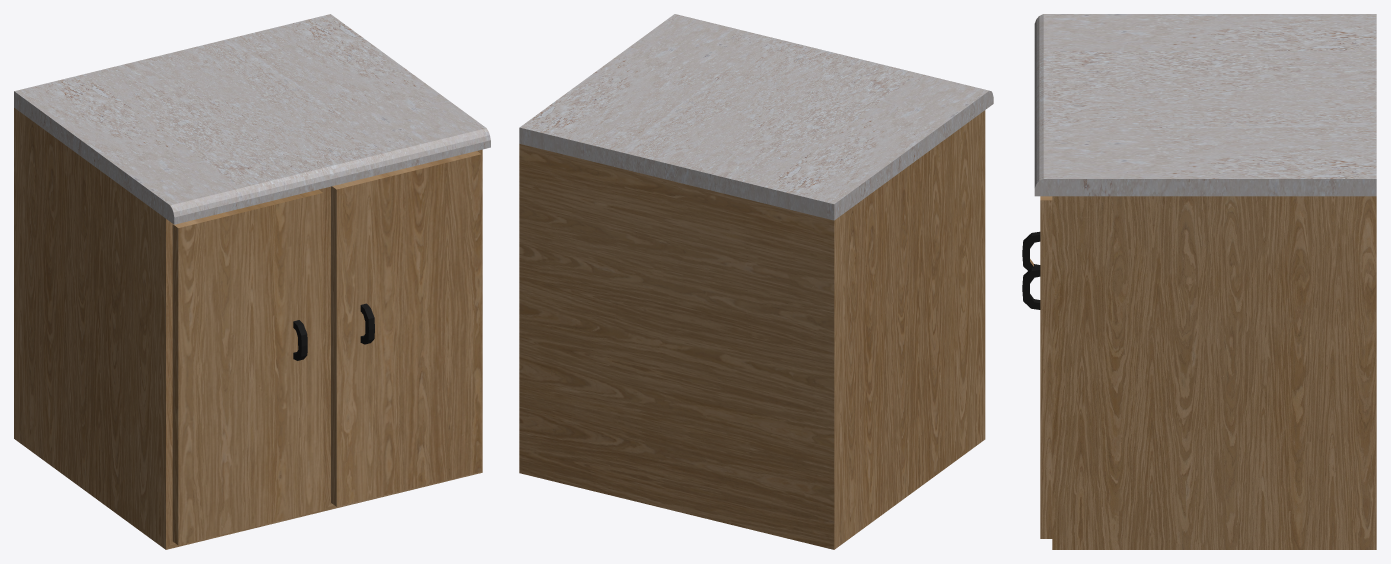
The model's file is Kärpänen_Keittiö_Kaappi.fbx.
3 views of the same model, side by side, from view 1: azimuth 30°, elevation 25°; view 2: azimuth 150°, elevation 25°; view 3: azimuth 270°, elevation 25° (orthographic). The views are drawn at different scales.
Parts seen in each view (by area): view 1: Cube.005; view 2: Cube.005; view 3: Cube.005.
Part boxes in pixels (<box>): Cube.005: <box>14,14,490,549</box>; Cube.005: <box>519,14,993,549</box>; Cube.005: <box>1022,14,1376,549</box>.
Size of the model in its own units: 2531 by 2656 by 2298.
3 materials, 2 textured.
